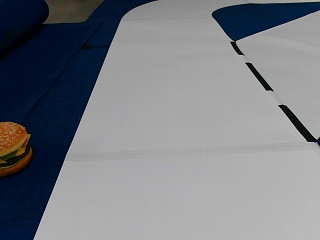burger: (0, 119, 32, 177)
